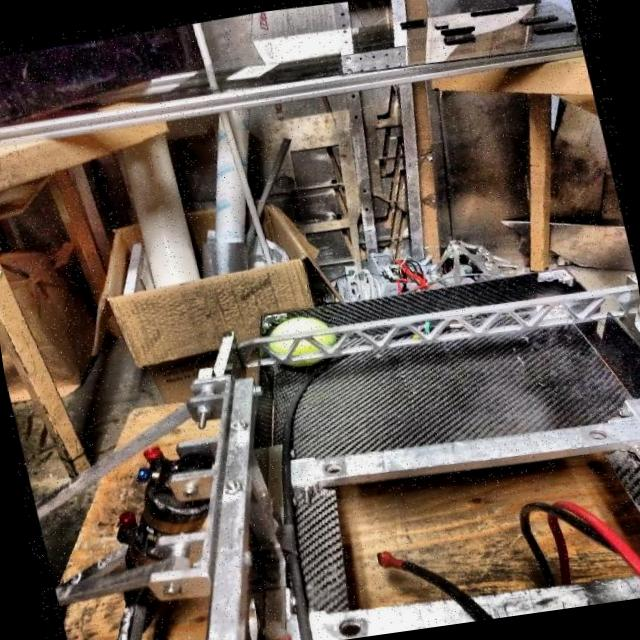Tennis Ball: (262, 306, 342, 373)
